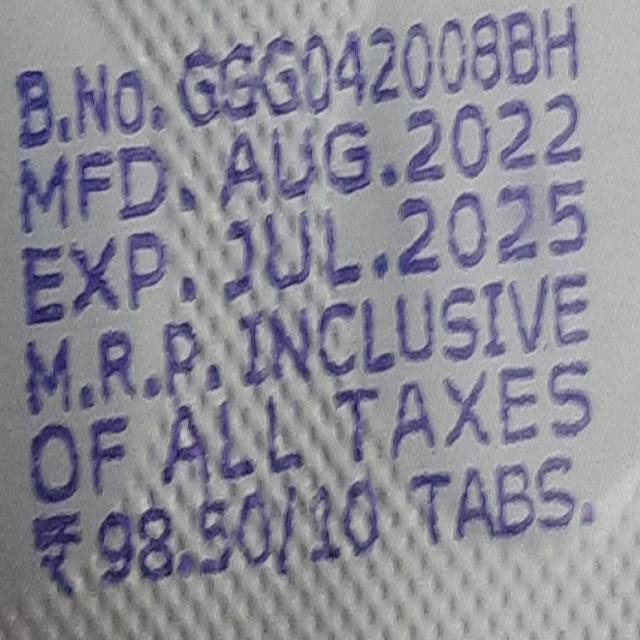sentence: (30, 352, 592, 507), (22, 175, 588, 326), (20, 85, 582, 233), (25, 273, 589, 415), (16, 7, 579, 149), (32, 457, 594, 596)
